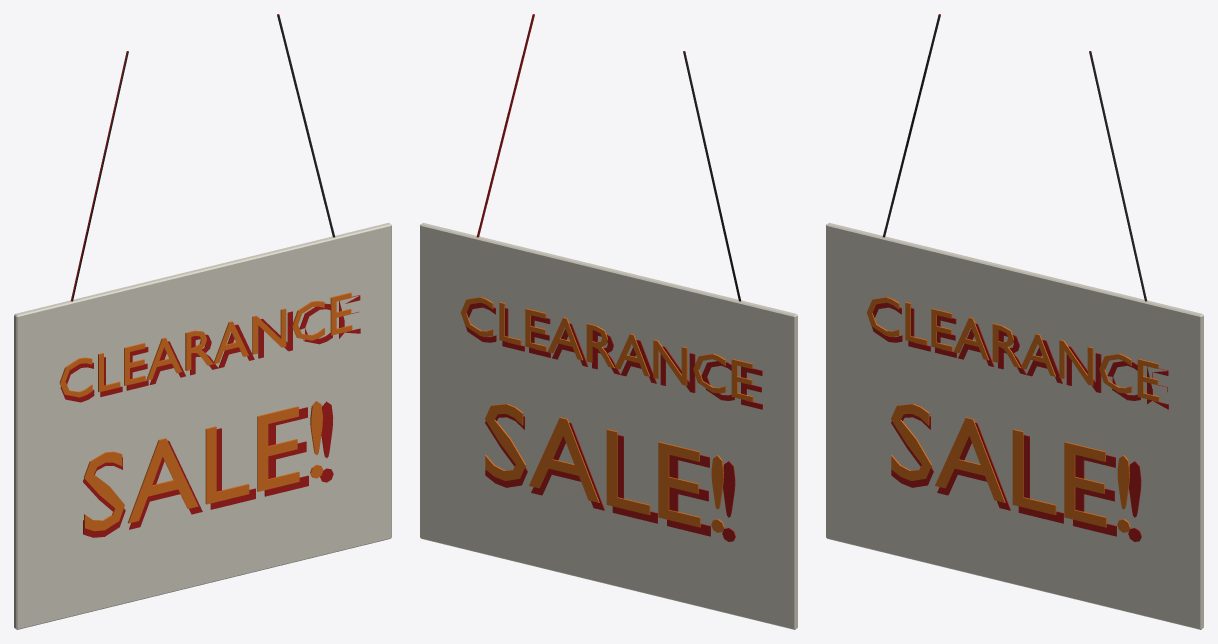
Rendered from PlacaPenduradaLiquida.fbx.
3 views of the same model, side by side, from view 1: azimuth 30°, elevation 25°; view 2: azimuth 150°, elevation 25°; view 3: azimuth 330°, elevation 25° (orthographic).
Visible parts, largest first — view 1: PlacaPenduradaLiquida; view 2: PlacaPenduradaLiquida; view 3: PlacaPenduradaLiquida.
Part boxes in pixels (x1,y1,x2,y2): PlacaPenduradaLiquida: (14, 14, 391, 629); PlacaPenduradaLiquida: (420, 14, 797, 629); PlacaPenduradaLiquida: (826, 14, 1203, 629).
Size of the model in its own units: 1 by 1.4 by 0.026.
